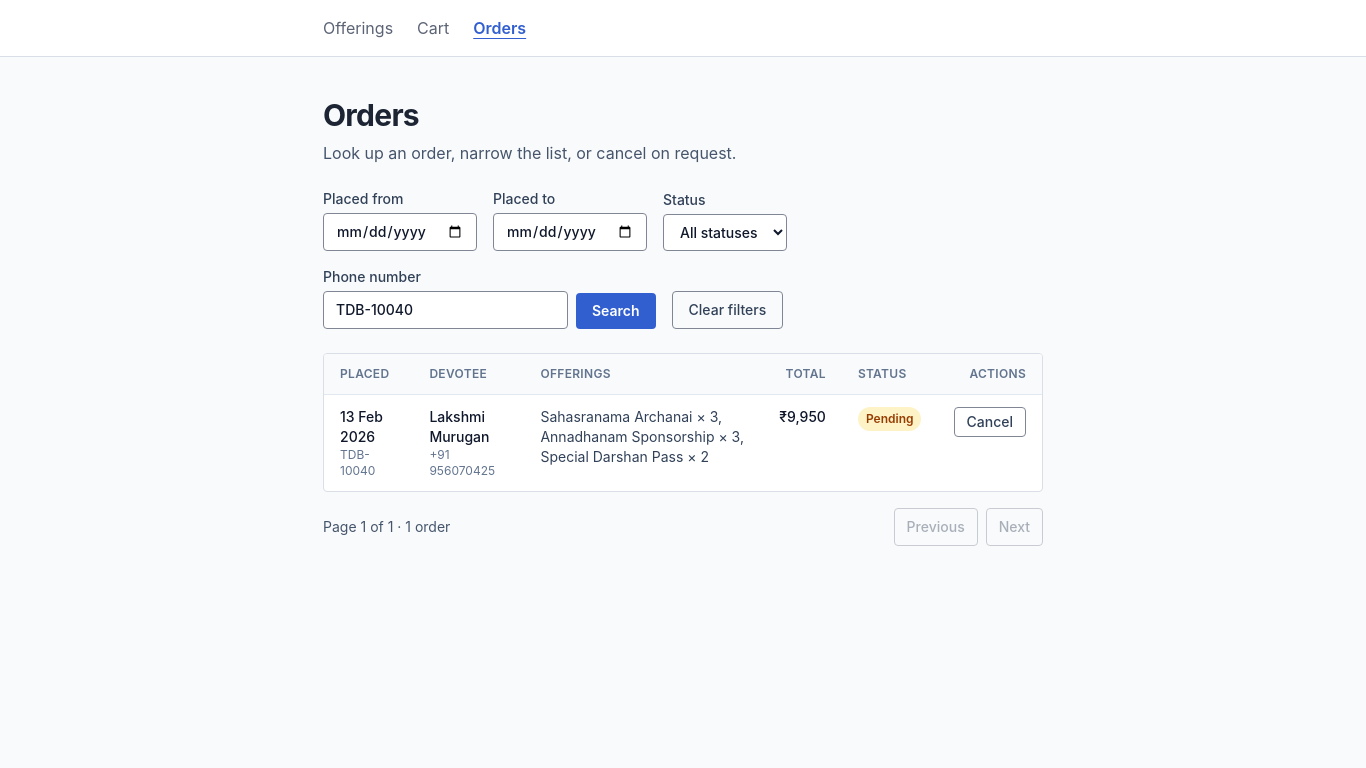
Scenario: Orders screen › asks for confirmation before cancelling and cancels nothing when declined
Click the button "Cancel". click: x=990, y=422
box: [954,407,1026,437]
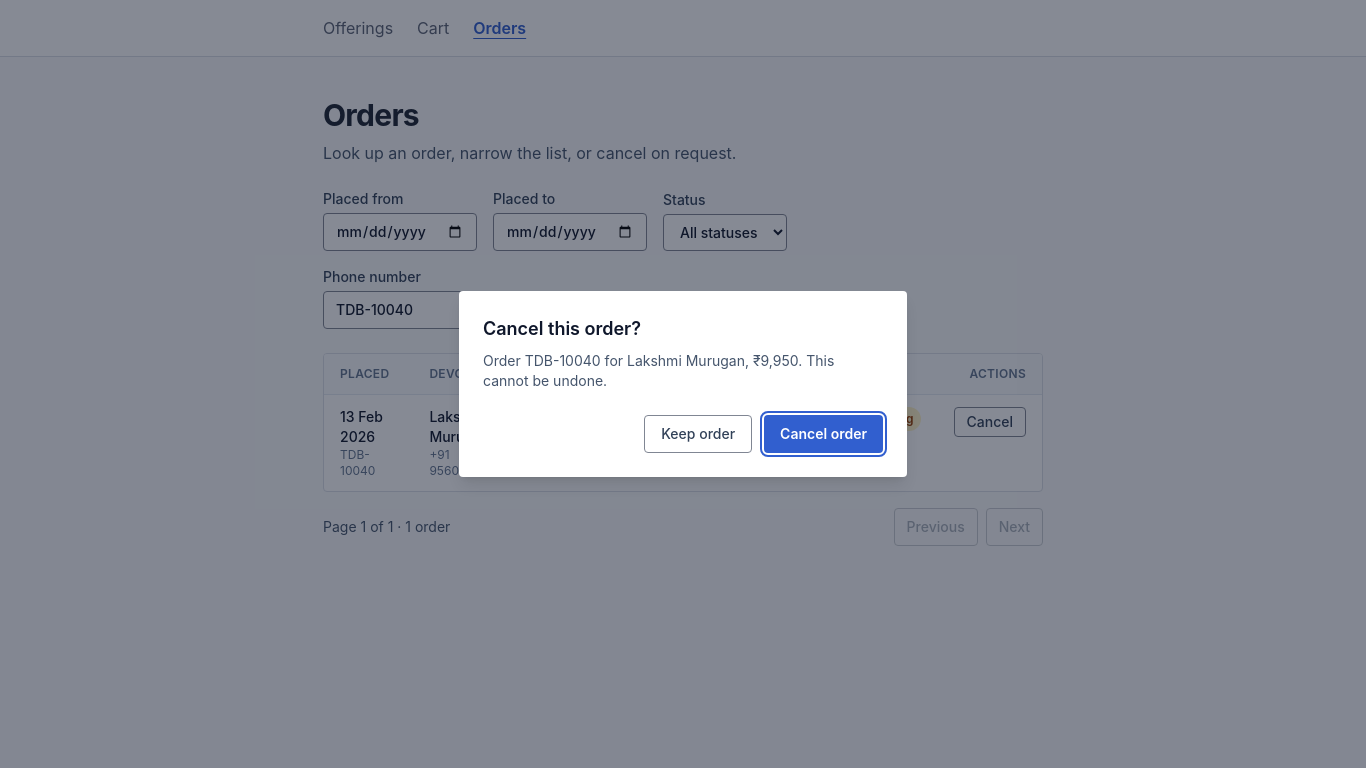
Click the button "Keep order". click: x=698, y=434
box: [644,415,752,453]
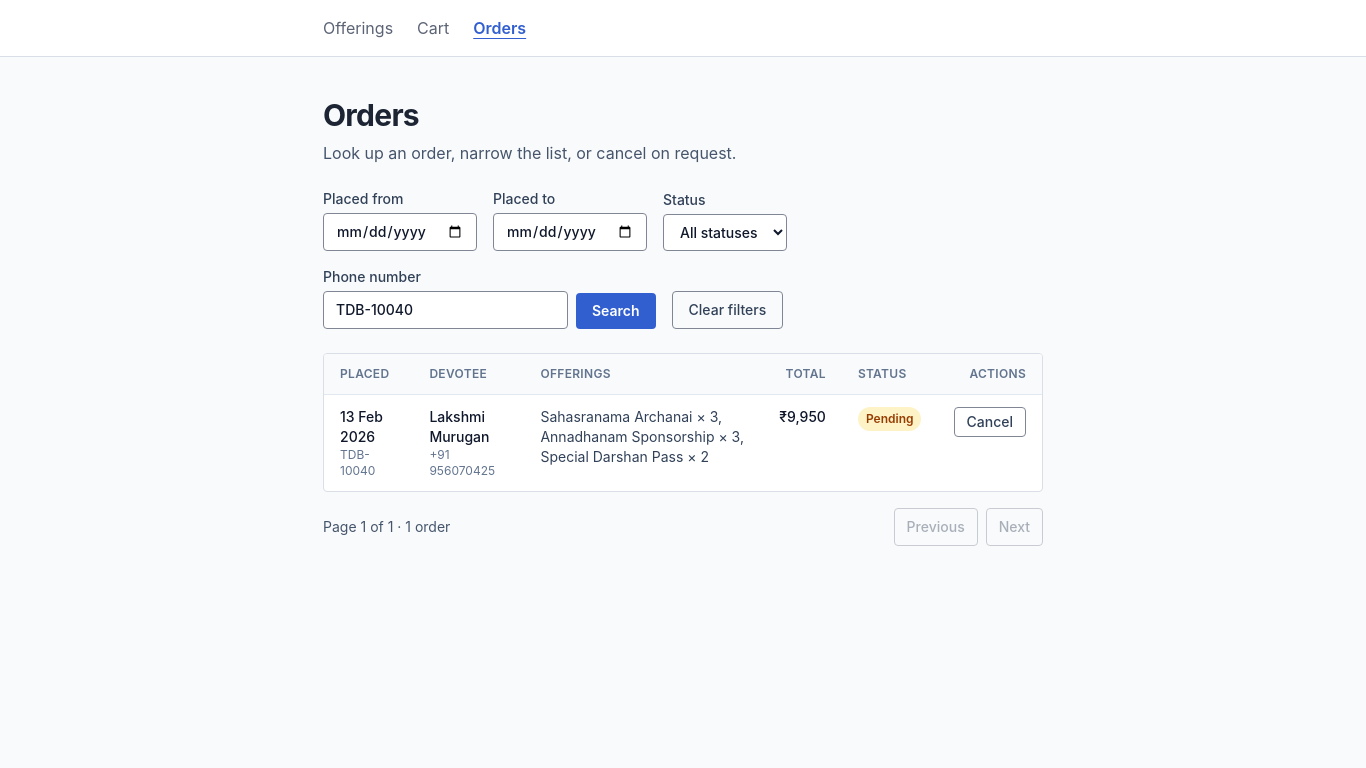
Expected: the dialog is gone
